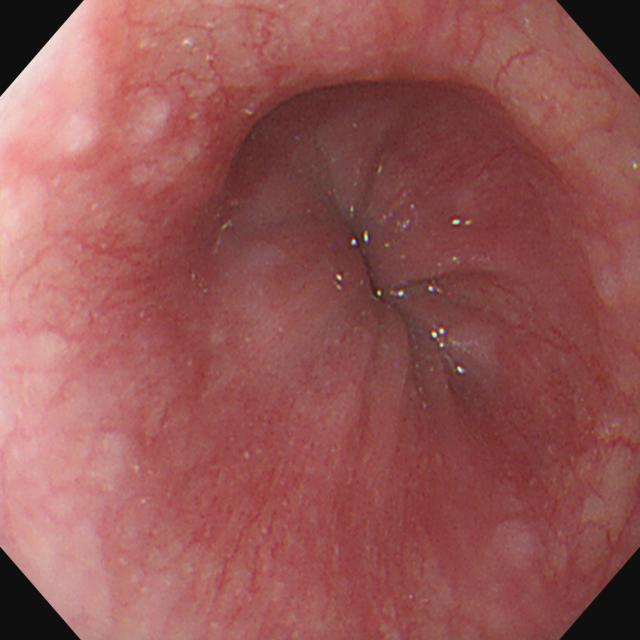I: (201, 64, 595, 497)
